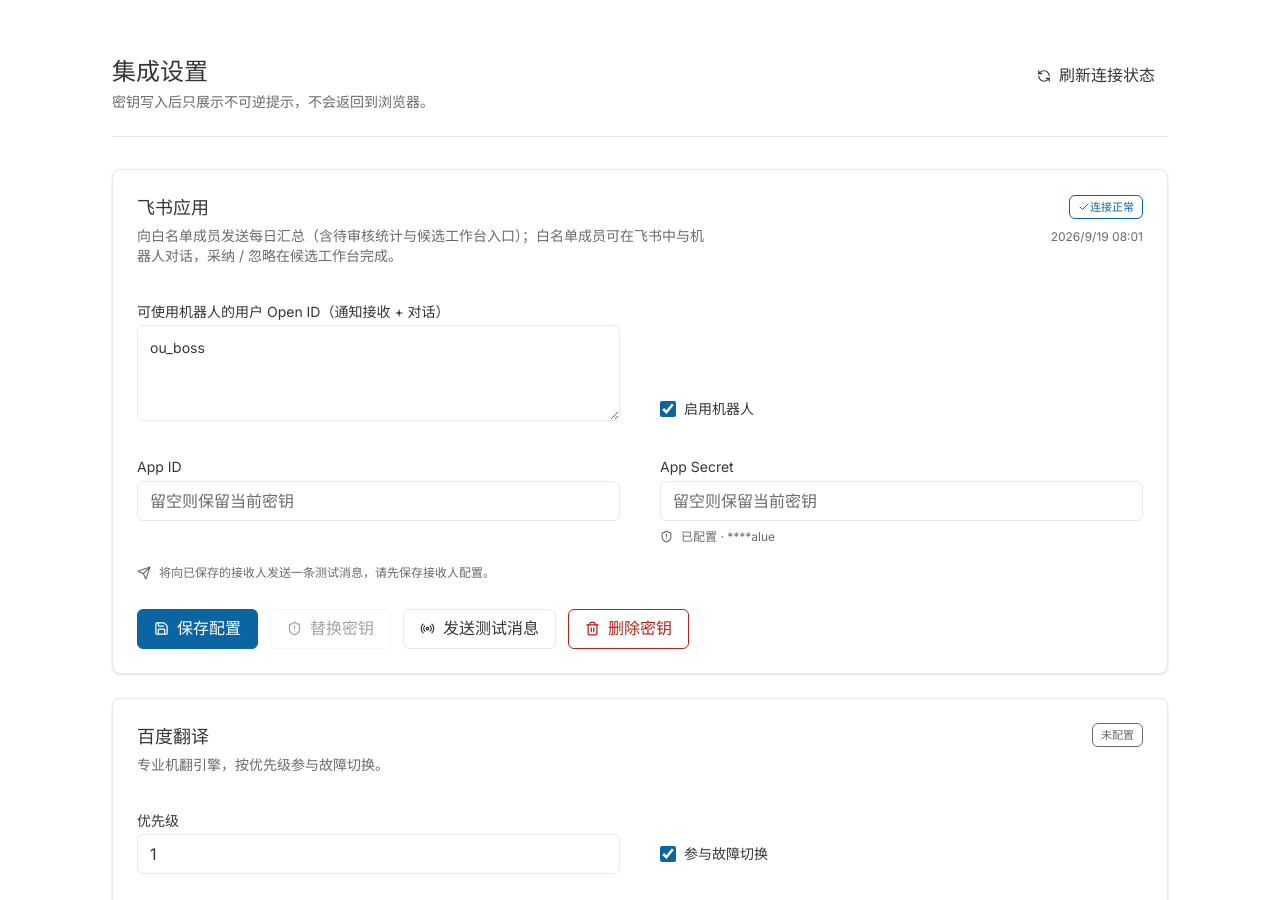
Test: Feishu application integration › reports invalid credentials without claiming a test message was sent
Click the button with aria-label "发送飞书测试消息". click: coordinates (480, 629)
box: [403,609,556,649]
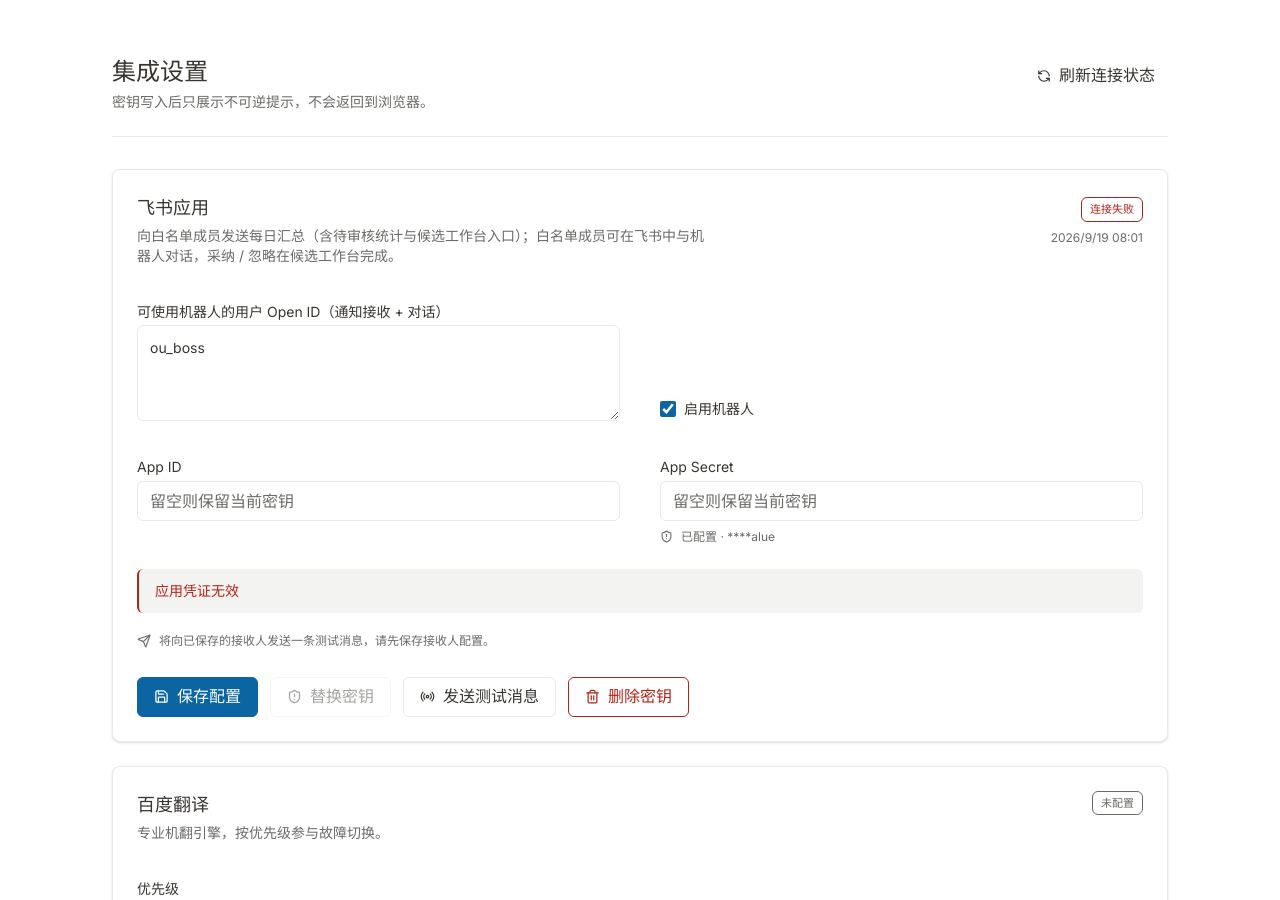
Expected: the button with aria-label "发送飞书测试消息" is enabled, [403,677,556,717]
Result: the message reads "应用凭证无效" at [155,582,239,599]
